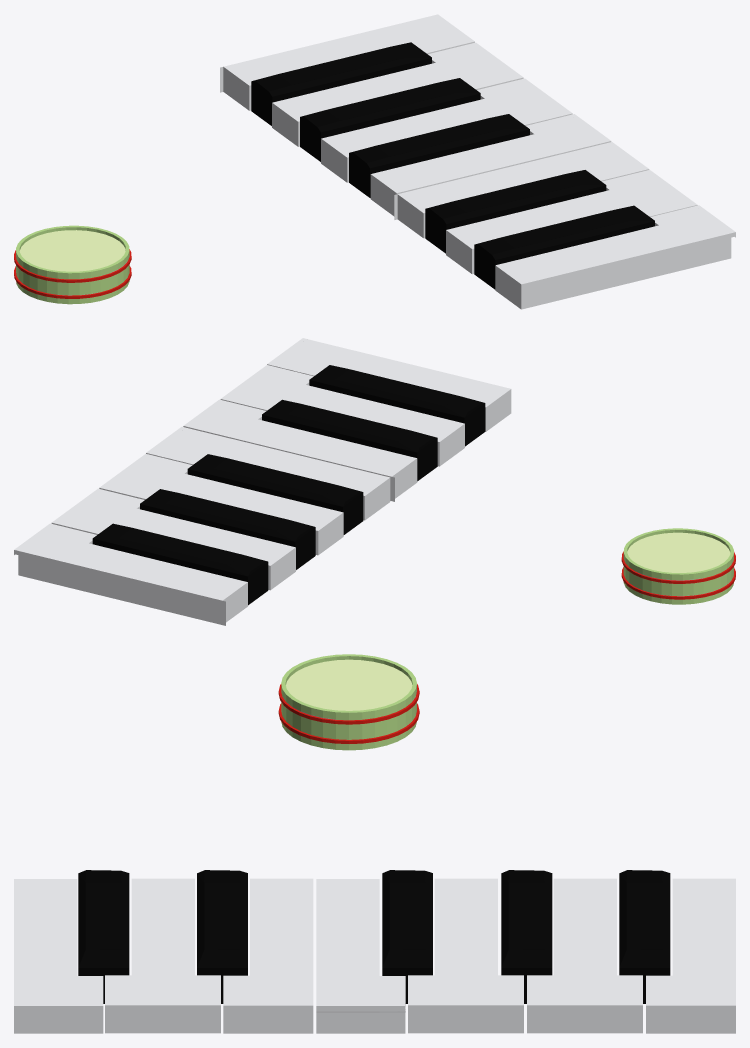
File: TeclasNuevas.fbx
3 renders of one model, top to bottom at view 1: azimuth 30°, elevation 25°; view 2: azimuth 150°, elevation 25°; view 3: azimuth 270°, elevation 25°, orthographic. The views are drawn at different scales.
Parts seen in each view (by area): view 1: Cube.002, Cylinder.002, Cube.003, Cube, Cube.004, Cube.005, Cube.006, Cube.001, Cube.007, Cube.008, Cube.009, Cube.010 (+1 smaller); view 2: Cube.006, Cylinder.002, Cube.001, Cube.004, Cube.005, Cube, Cube.003, Cube.002, Cube.011, Cube.009, Cube.010, Cube.008 (+1 smaller); view 3: Cube, Cube.004, Cube.005, Cylinder.002, Cube.001, Cube.006, Cube.002, Cube.003, Cube.009, Cube.007, Cube.011, Cube.008 (+1 smaller).
Part boxes in pixels (bbox=[...]): Cube.002: bbox=[495, 205, 735, 309]; Cylinder.002: bbox=[14, 225, 131, 304]; Cube.003: bbox=[370, 114, 611, 216]; Cube: bbox=[446, 170, 697, 274]; Cube.004: bbox=[321, 78, 572, 182]; Cube.005: bbox=[272, 42, 523, 146]; Cube.006: bbox=[220, 14, 474, 110]; Cube.001: bbox=[394, 142, 649, 238]; Cube.007: bbox=[300, 78, 480, 161]; Cube.008: bbox=[349, 114, 529, 197]; Cube.009: bbox=[251, 42, 431, 125]; Cube.010: bbox=[425, 170, 606, 253]; Cube.006: bbox=[14, 523, 247, 625]; Cylinder.002: bbox=[621, 528, 735, 604]; Cube.001: bbox=[183, 399, 417, 501]; Cube.004: bbox=[99, 454, 343, 555]; Cube.005: bbox=[51, 488, 295, 590]; Cube: bbox=[220, 365, 464, 466]; Cube.003: bbox=[146, 426, 390, 520]; Cube.002: bbox=[267, 338, 511, 431]; Cube.011: bbox=[309, 365, 485, 446]; Cube.009: bbox=[92, 523, 268, 605]; Cube.010: bbox=[262, 399, 437, 481]; Cube.008: bbox=[187, 454, 363, 534]; Cube: bbox=[105, 878, 220, 1033]; Cube.004: bbox=[408, 878, 523, 1033]; Cube.005: bbox=[527, 878, 642, 1033]; Cylinder.002: bbox=[278, 654, 419, 750]; Cube.001: bbox=[223, 878, 313, 1033]; Cube.006: bbox=[646, 878, 735, 1033]; Cube.002: bbox=[14, 879, 103, 1033]; Cube.003: bbox=[316, 879, 405, 1033]; Cube.009: bbox=[619, 870, 670, 1003]; Cube.007: bbox=[501, 870, 552, 1003]; Cube.011: bbox=[78, 870, 129, 1003]; Cube.008: bbox=[382, 870, 432, 1003].
Bounding box in the file's own units: 1474 × 85.04 × 1318.
